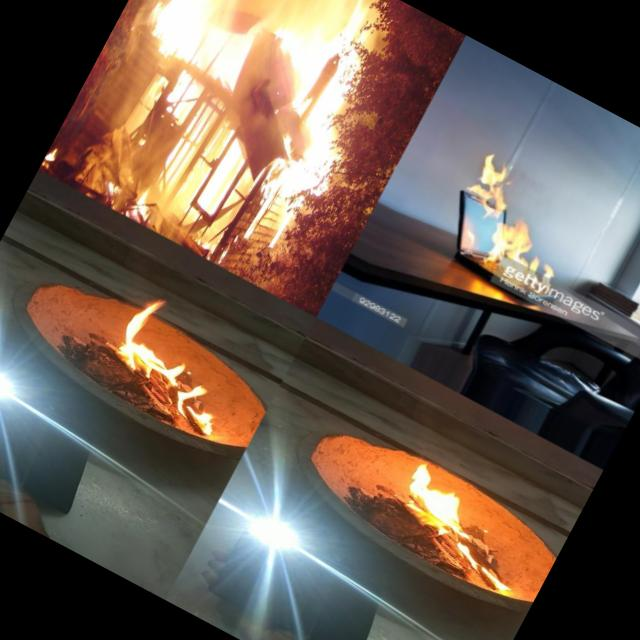fire: (68, 0, 304, 234), (215, 0, 417, 230), (92, 288, 258, 438), (375, 452, 534, 588), (484, 210, 570, 280), (456, 144, 528, 218), (38, 120, 81, 178)
